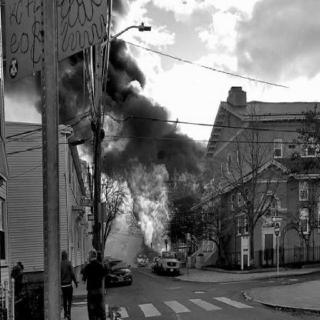Fire: (56, 64, 212, 266)
